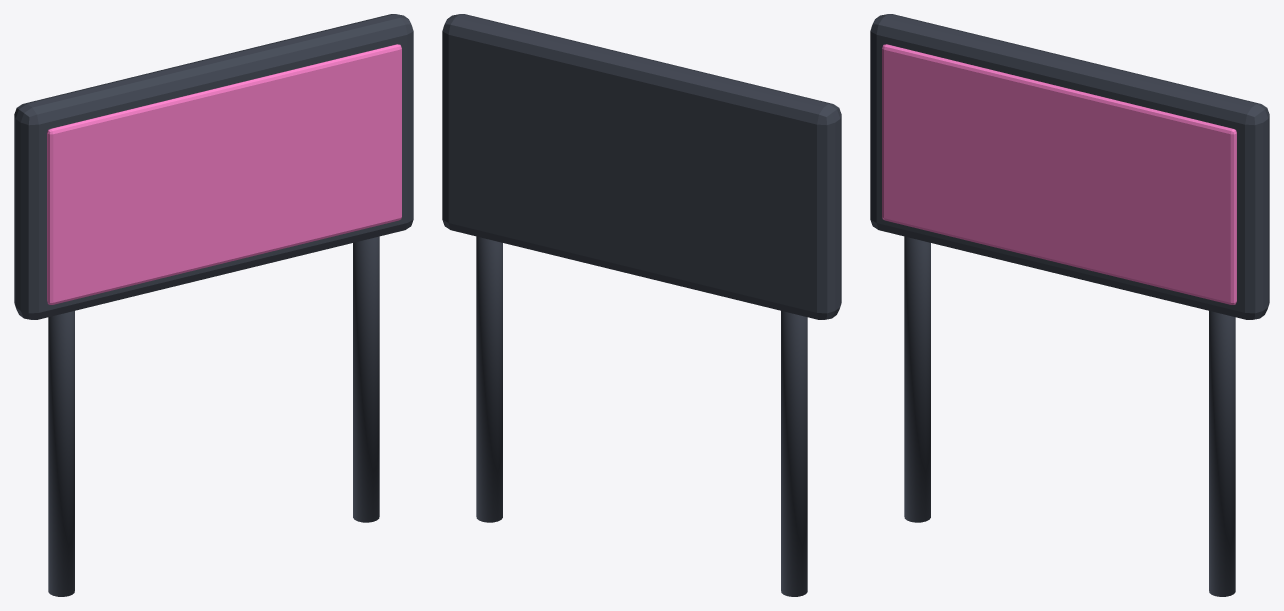
The model's file is billboard.glb.
3 renders of one model, left to right at view 1: azimuth 30°, elevation 25°; view 2: azimuth 150°, elevation 25°; view 3: azimuth 330°, elevation 25°, orthographic.
Visible parts, largest first — view 1: panel_face, panel, pole_R, pole_L; view 2: panel, pole_R, pole_L; view 3: panel_face, panel, pole_L, pole_R.
Part boxes in pixels (<box>): panel_face: <box>47,44,401,304</box>; panel: <box>14,14,413,319</box>; pole_R: <box>353,236,379,522</box>; pole_L: <box>48,311,74,596</box>; panel: <box>442,14,841,319</box>; pole_R: <box>476,236,502,522</box>; pole_L: <box>781,311,807,596</box>; panel_face: <box>882,44,1236,304</box>; panel: <box>870,14,1269,319</box>; pole_L: <box>904,236,930,522</box>; pole_R: <box>1209,311,1235,596</box>.
Bounding box in the file's own units: 2.7 × 3.25 × 0.26.
